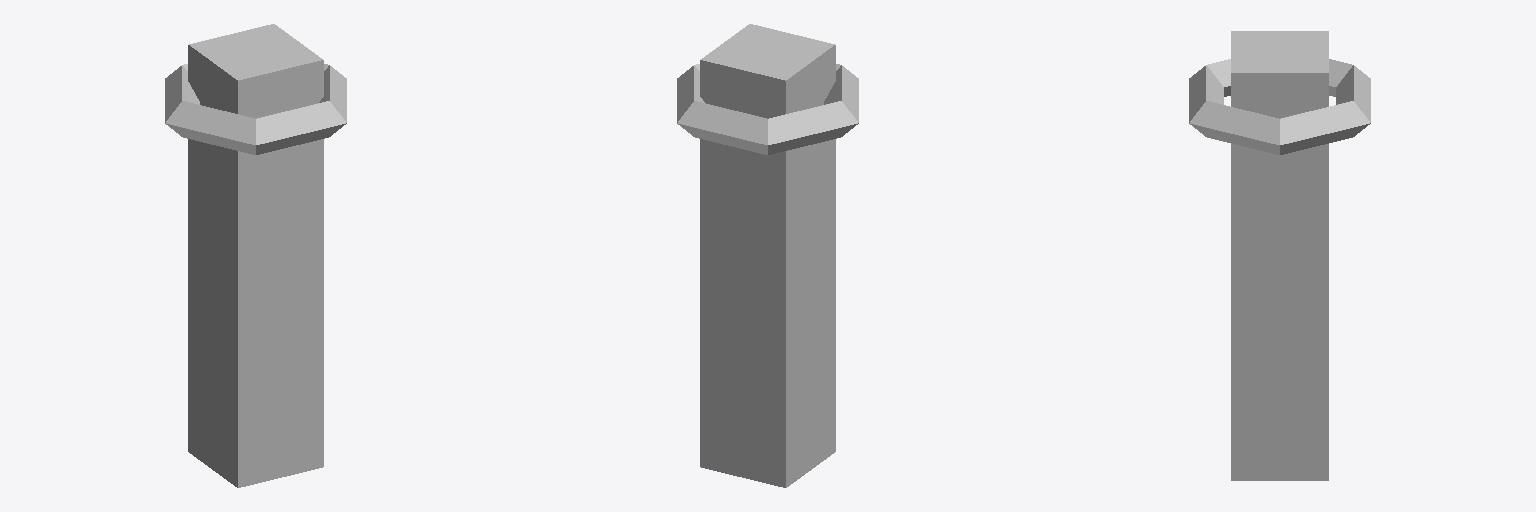
The model's file is torch.obj.
The picture shows the model from 3 angles: view 1: azimuth 30°, elevation 25°; view 2: azimuth 150°, elevation 25°; view 3: azimuth 270°, elevation 25°; orthographic projection.
Parts seen in each view (by area): view 1: Cube; view 2: Cube; view 3: Cube.
Boxes of the visible parts, x1,y1,x2,y2 form: Cube: [165, 24, 346, 487]; Cube: [677, 24, 858, 487]; Cube: [1189, 31, 1370, 480].
Bounding box in the file's own units: 0.468 × 1 × 0.4053.